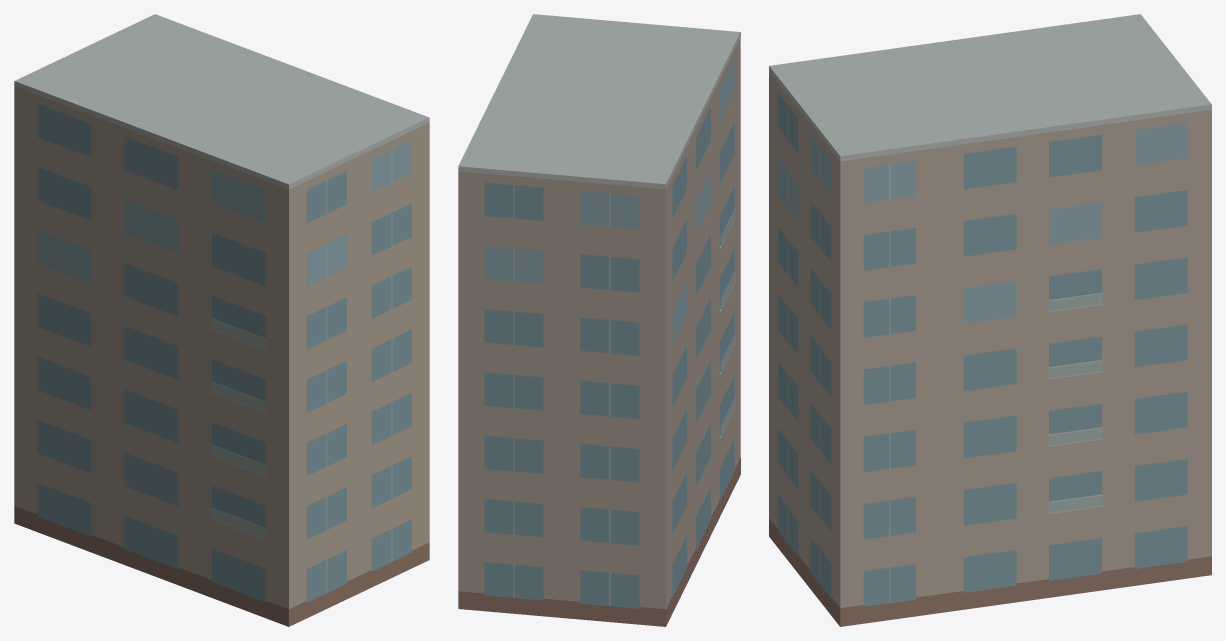
The model's file is survey-upis-32975212.glb.
The picture shows the model from 3 angles, left to right: view 1: azimuth 30°, elevation 25°; view 2: azimuth 150°, elevation 25°; view 3: azimuth 270°, elevation 25°; orthographic projection. The views are drawn at different scales.
Parts seen in each view (by area): view 1: survey-upis-32975212.tmp; view 2: survey-upis-32975212.tmp; view 3: survey-upis-32975212.tmp.
Boxes of the visible parts, <box> form: survey-upis-32975212.tmp: <box>14,14,429,626</box>; survey-upis-32975212.tmp: <box>458,14,740,626</box>; survey-upis-32975212.tmp: <box>769,14,1211,626</box>.
Bounding box in the file's own units: 13.75 × 21.2 × 18.08.
